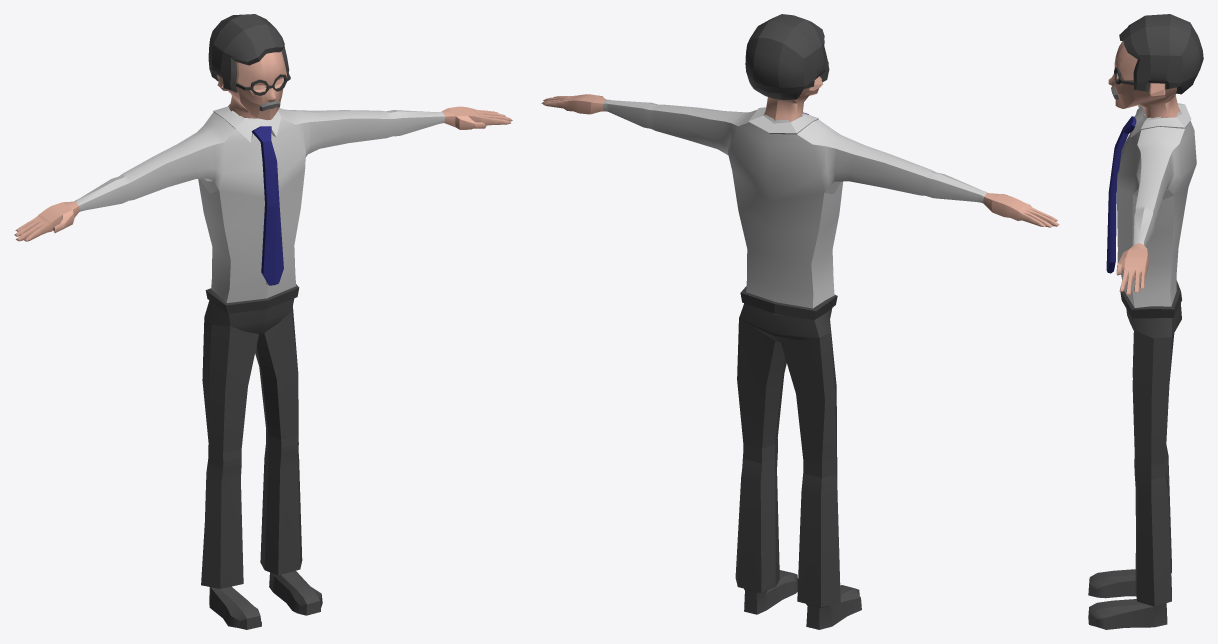
The model's file is character_player_HIGH.fbx.
3 renders of one model, left to right at view 1: azimuth 30°, elevation 25°; view 2: azimuth 150°, elevation 25°; view 3: azimuth 270°, elevation 25°, orthographic. The views are drawn at different scales.
Visible parts, largest first — view 1: body_HIGH, Hair, tie1, Head_GEO; view 2: body_HIGH, Hair, Head_GEO; view 3: body_HIGH, Hair, Head_GEO, tie1.
Part boxes in pixels (box(x1,y1,x2,y2)): body_HIGH: box(14, 104, 512, 629); Hair: box(208, 14, 289, 92); tie1: box(251, 126, 283, 285); Head_GEO: box(217, 51, 287, 120); body_HIGH: box(541, 94, 1059, 629); Hair: box(745, 14, 829, 99); Head_GEO: box(764, 76, 822, 121); body_HIGH: box(1088, 103, 1196, 629); Hair: box(1119, 14, 1203, 94); Head_GEO: box(1108, 41, 1180, 118); tie1: box(1106, 116, 1136, 273).
Size of the model in its own units: 181 by 202 by 35.84.
